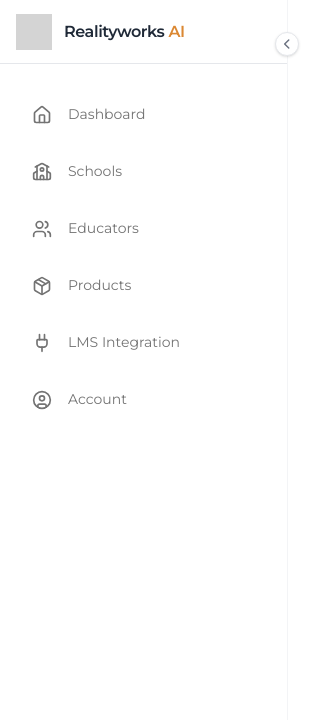
Test: Sidebar › expands sidebar when expand button clicked
Step 1. Click the button named "Collapse sidebar" → (287, 44), box left=275, top=32, right=299, bottom=56
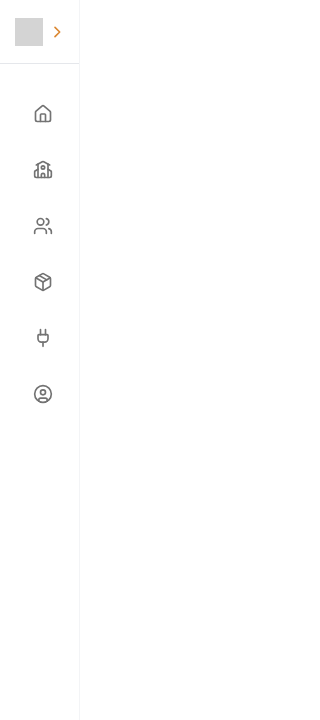
Step 2. Click the button named "Expand sidebar" → (40, 32), box left=16, top=14, right=63, bottom=50
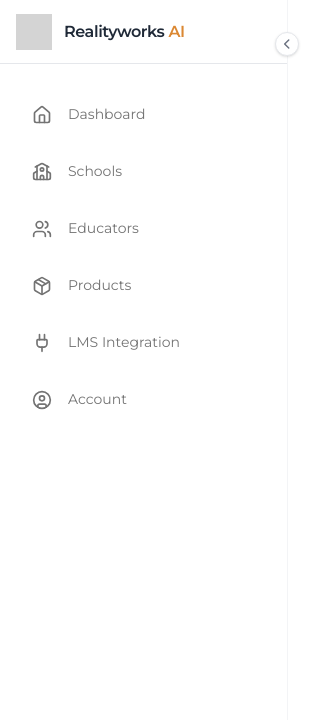
Result: the button named "Collapse sidebar" is shown at left=275, top=32, right=299, bottom=56
